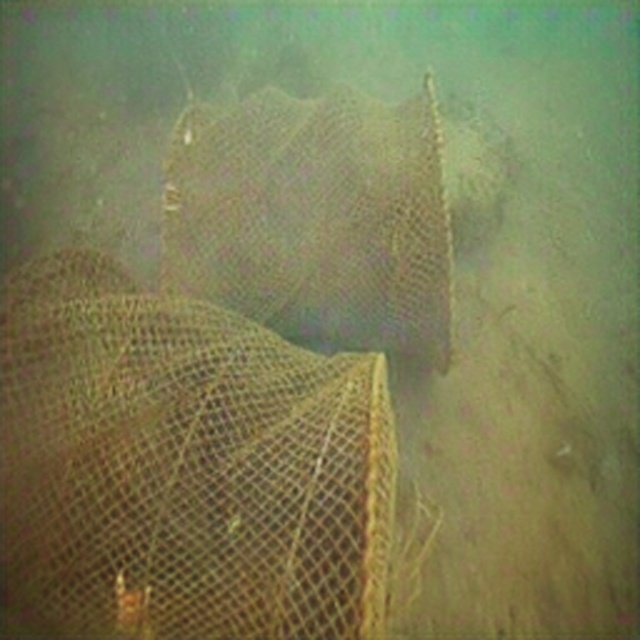mine: (0, 245, 398, 639), (158, 66, 457, 376)
